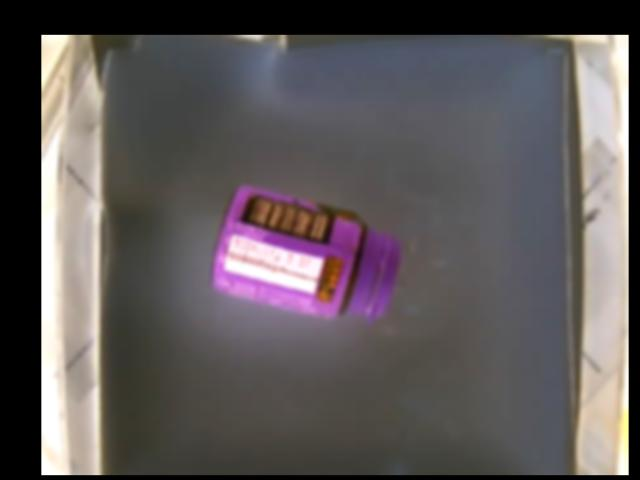Bottle: (208, 183, 398, 321)
